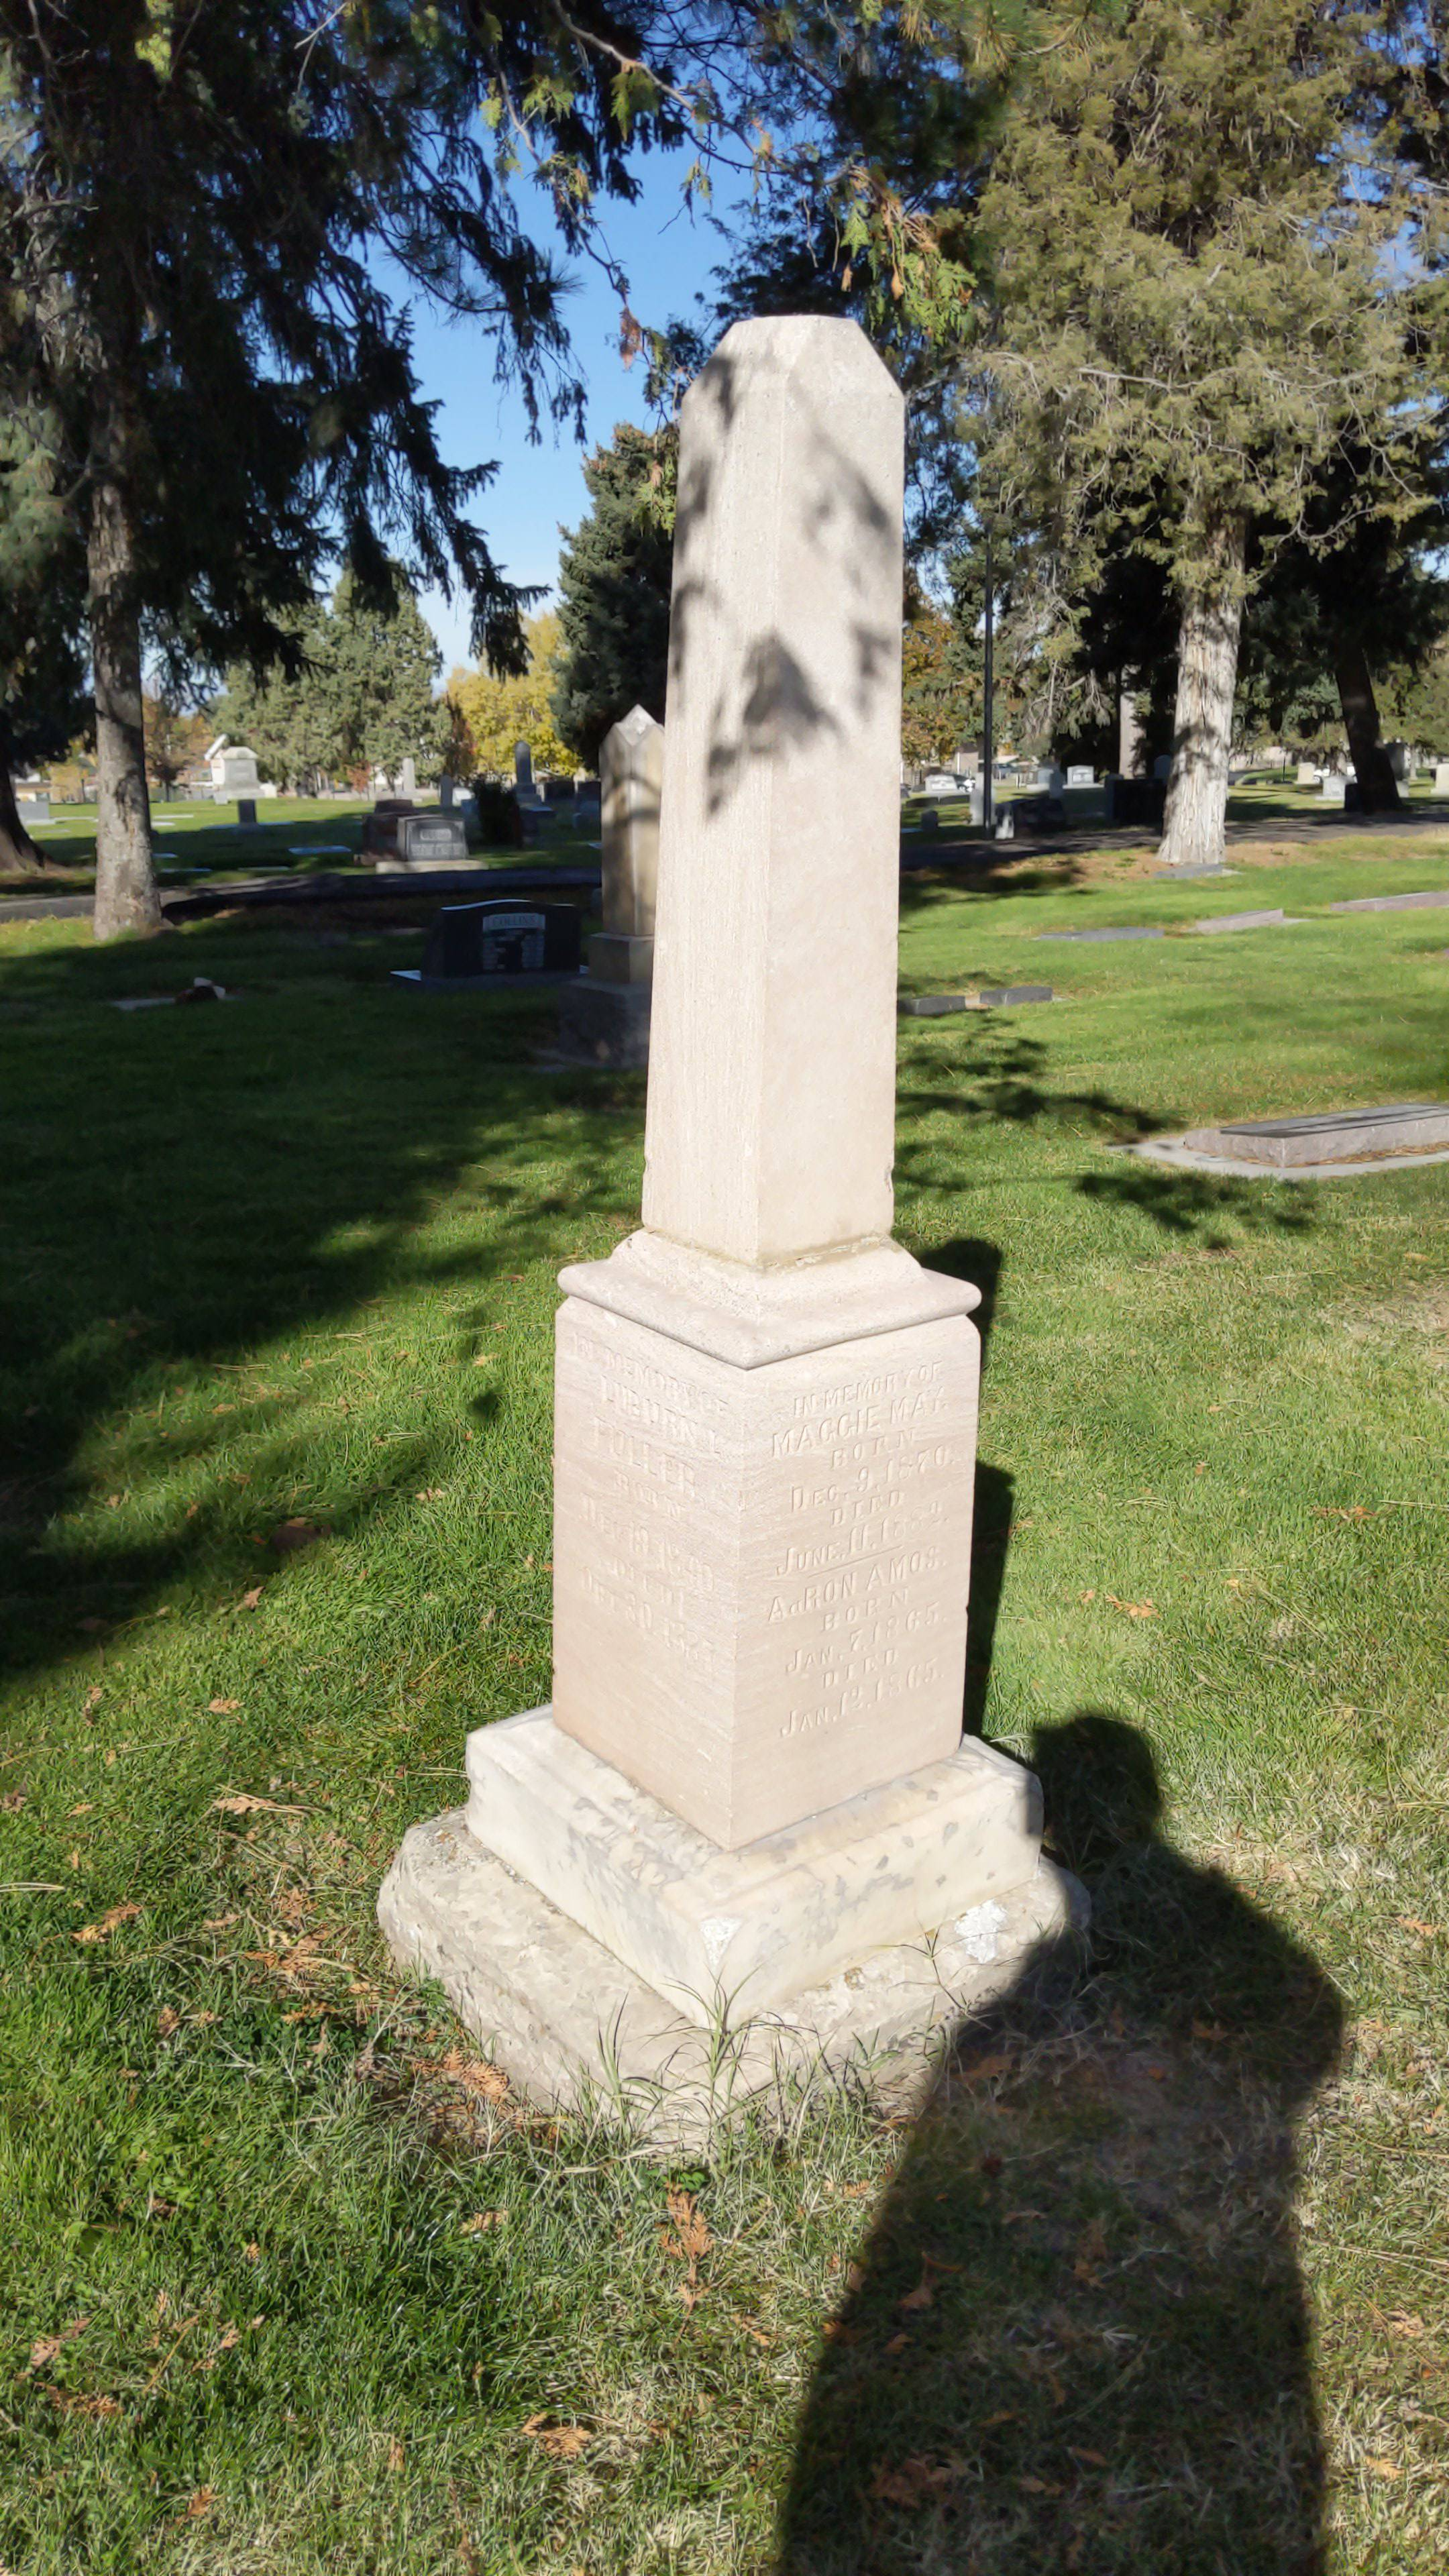obelisk: (547, 313, 975, 1849)
